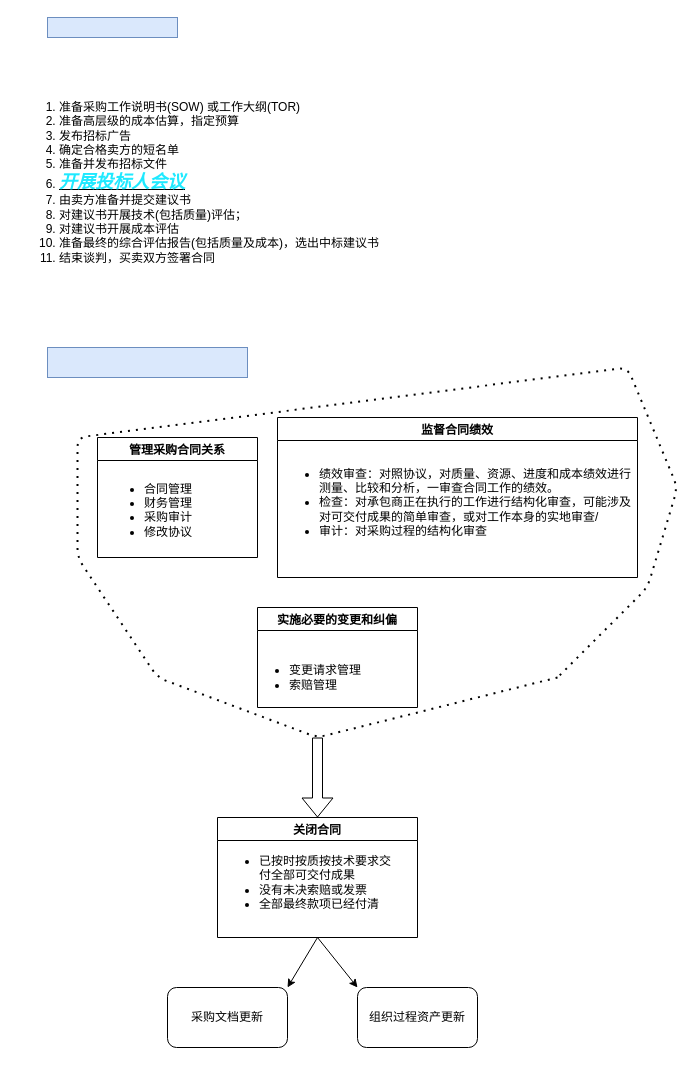
The diagram is 696 pixels wide and 1065 high, and some of its shapes have lost their labels. The centre of each missing label's shape, as x and y in pixels:
"实施采购前" belongs at [112,27].
"签署合同之后的采购工作" belongs at [147,362].
